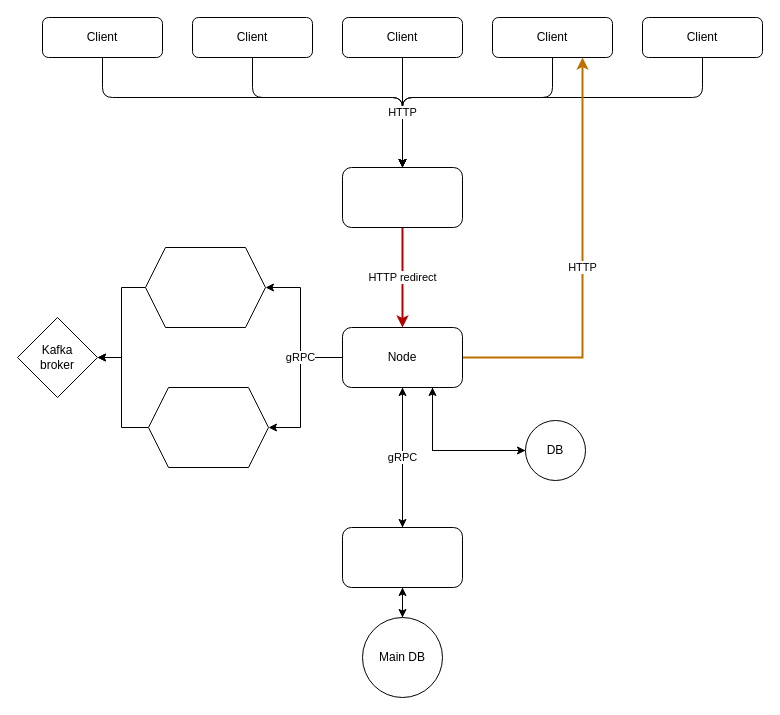
The diagram is 780 pixels wide and 715 high, and some of its shapes have lost their labels. The shapes that lost their labels are listed below. From the top down, each one's centre as x and y in pixels, then its label:
point 402,197: Gateway
point 205,287: Producer microservice
point 208,427: Consumer microservice
point 402,557: Server
